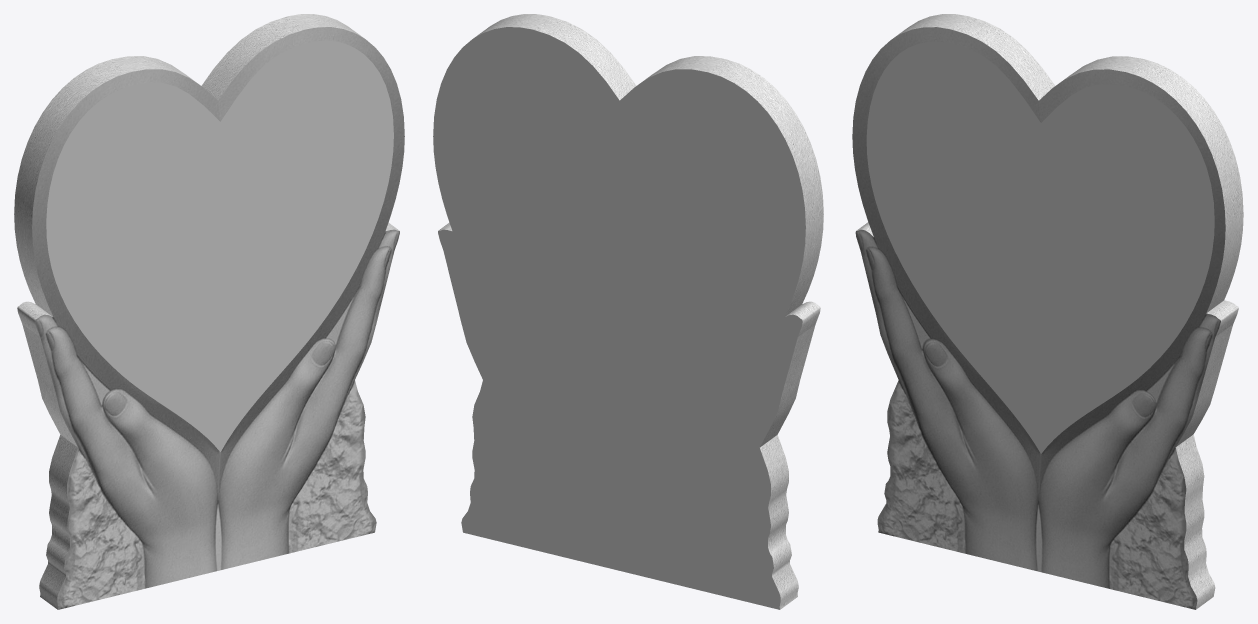
Rendered from cnae55974b14_tkf.glb.
3 views of the same model, side by side, from view 1: azimuth 30°, elevation 25°; view 2: azimuth 150°, elevation 25°; view 3: azimuth 330°, elevation 25° (orthographic).
Visible parts, largest first — view 1: Pam-d03-322, Pam-d03-322_2_notexture; view 2: Pam-d03-322, Pam-d03-322_2_notexture; view 3: Pam-d03-322, Pam-d03-322_2_notexture.
Part boxes in pixels (box(x1,y1,x2,y2)): Pam-d03-322: box(46, 40, 393, 451); Pam-d03-322_2_notexture: box(14, 14, 404, 609); Pam-d03-322: box(433, 27, 805, 609); Pam-d03-322_2_notexture: box(438, 14, 823, 609); Pam-d03-322: box(866, 41, 1214, 453); Pam-d03-322_2_notexture: box(852, 14, 1243, 609).
Bounding box in the file's own units: 0.6 × 0.8 × 0.05.
1 material, 1 textured.
